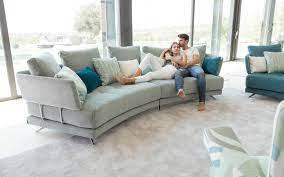chair: (204, 105, 284, 177)
door: (0, 1, 121, 100), (191, 2, 239, 61), (237, 2, 272, 63)
sofa: (23, 49, 231, 145), (245, 44, 284, 99)
